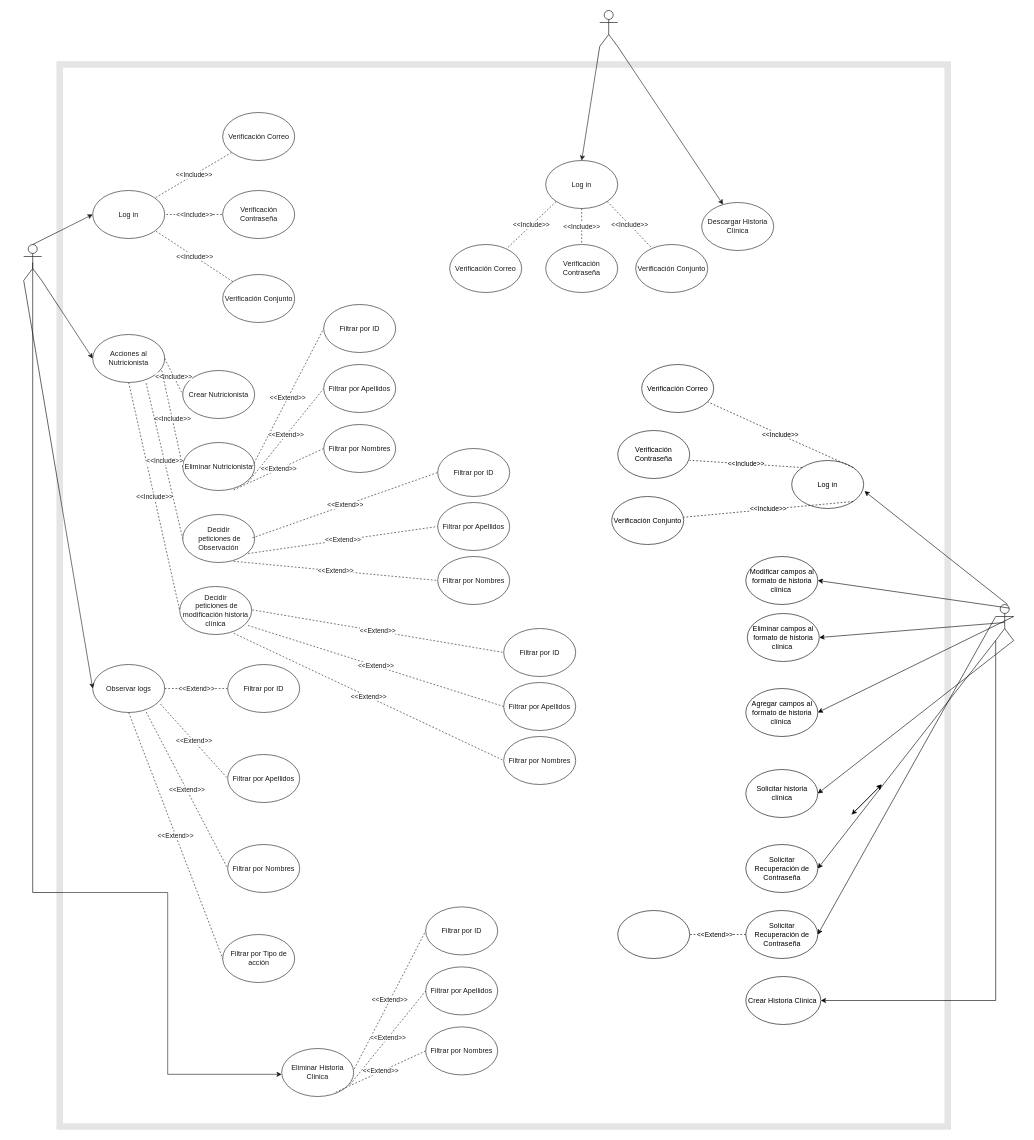
This 1034x1140 diagram has some shape labels left out. Each missing label, with the centre of its shape:
Administrador: point 32,262
Nutricionista: point 1004,622
Paciente: point 608,28
Recibir Datos de Recuperación de Cuenta: point 653,934
